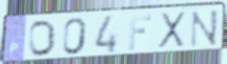0: (62, 17, 89, 57)
4: (93, 14, 121, 55)
F: (127, 14, 153, 51)
N: (189, 8, 220, 49)
O: (28, 19, 58, 58)
X: (156, 10, 187, 49)
